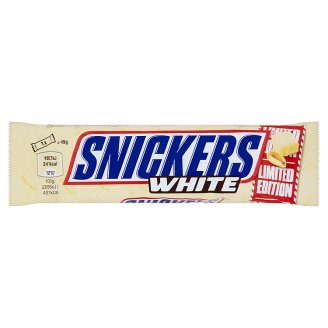snickers: (72, 133, 262, 179)
